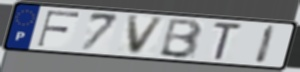7: (80, 11, 122, 53)
B: (157, 18, 205, 60)
F: (35, 10, 83, 49)
I: (252, 24, 278, 66)
T: (211, 20, 245, 62)
V: (125, 15, 167, 56)
